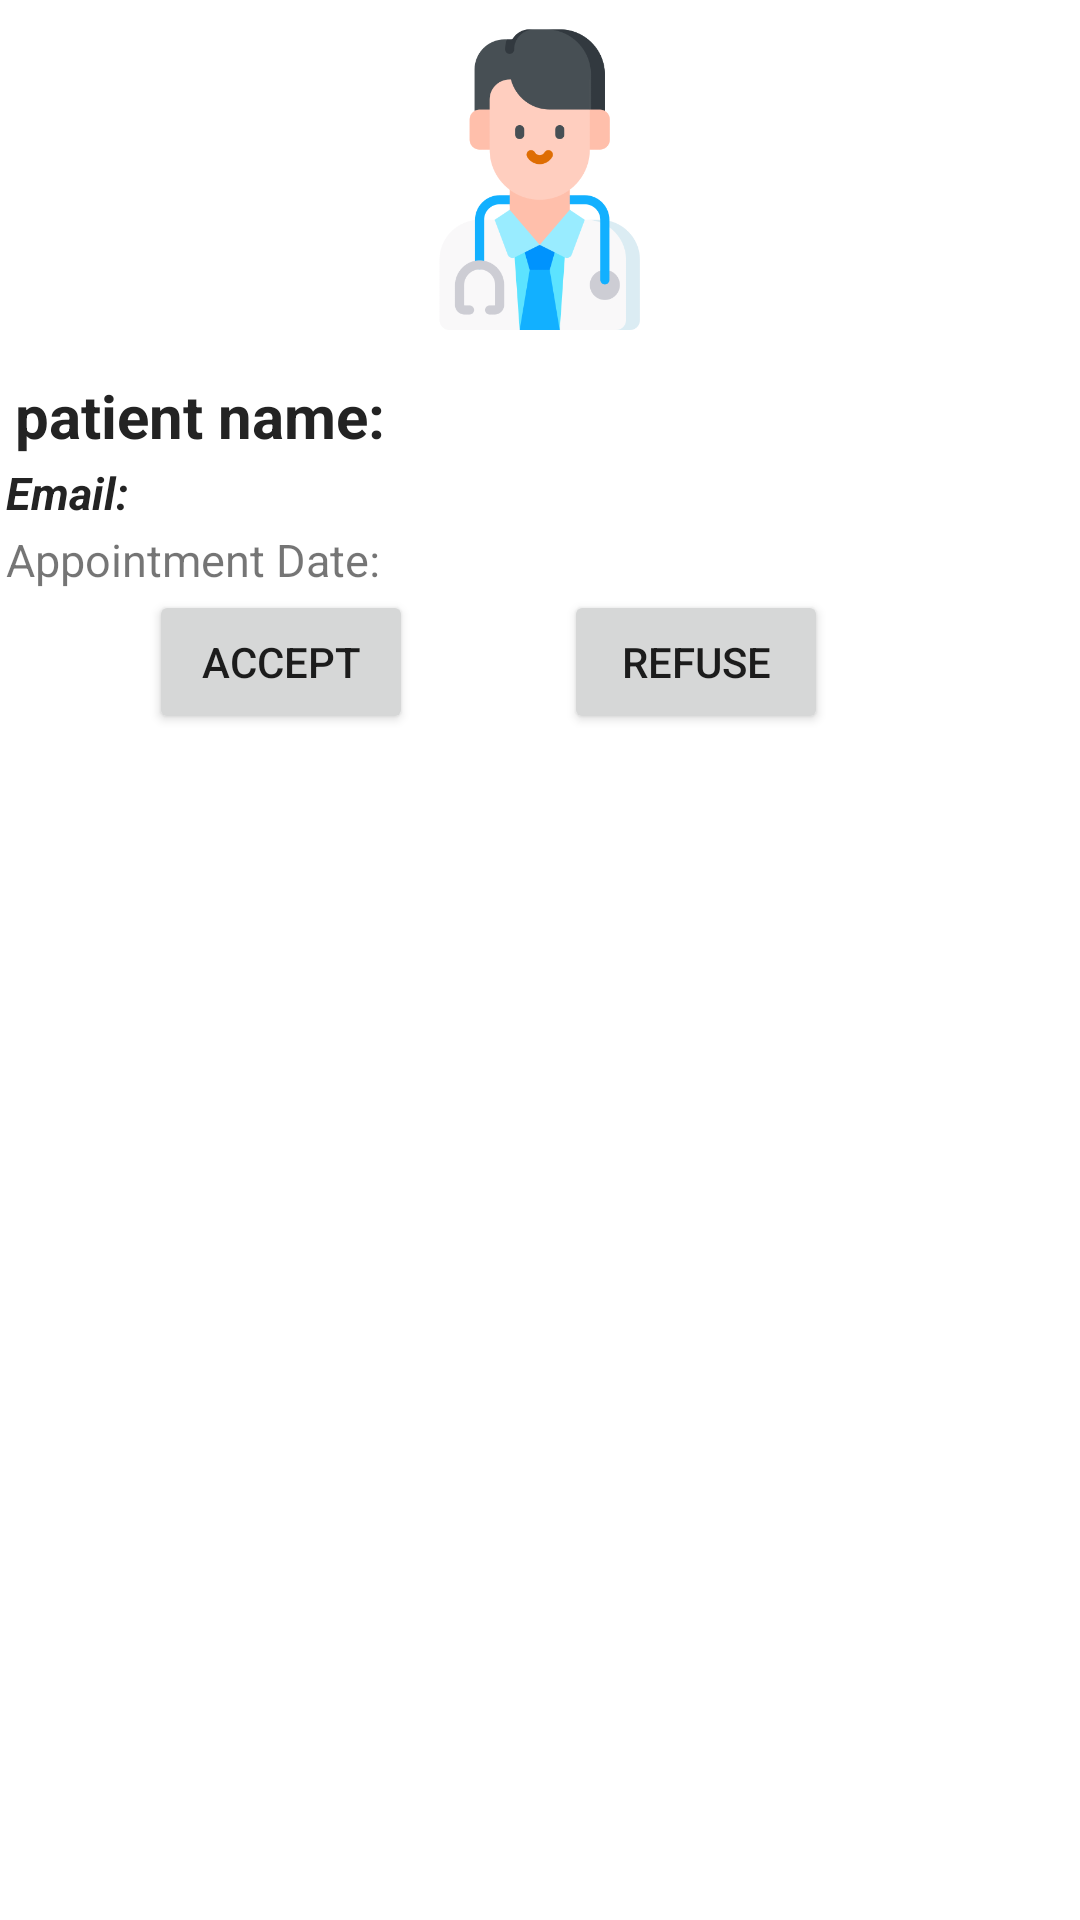

Locate icon controls on the screen. Image size 1080w x 1920h, boxes as (x1, y1, x2, y2).
doctor: (455, 29, 640, 330)
